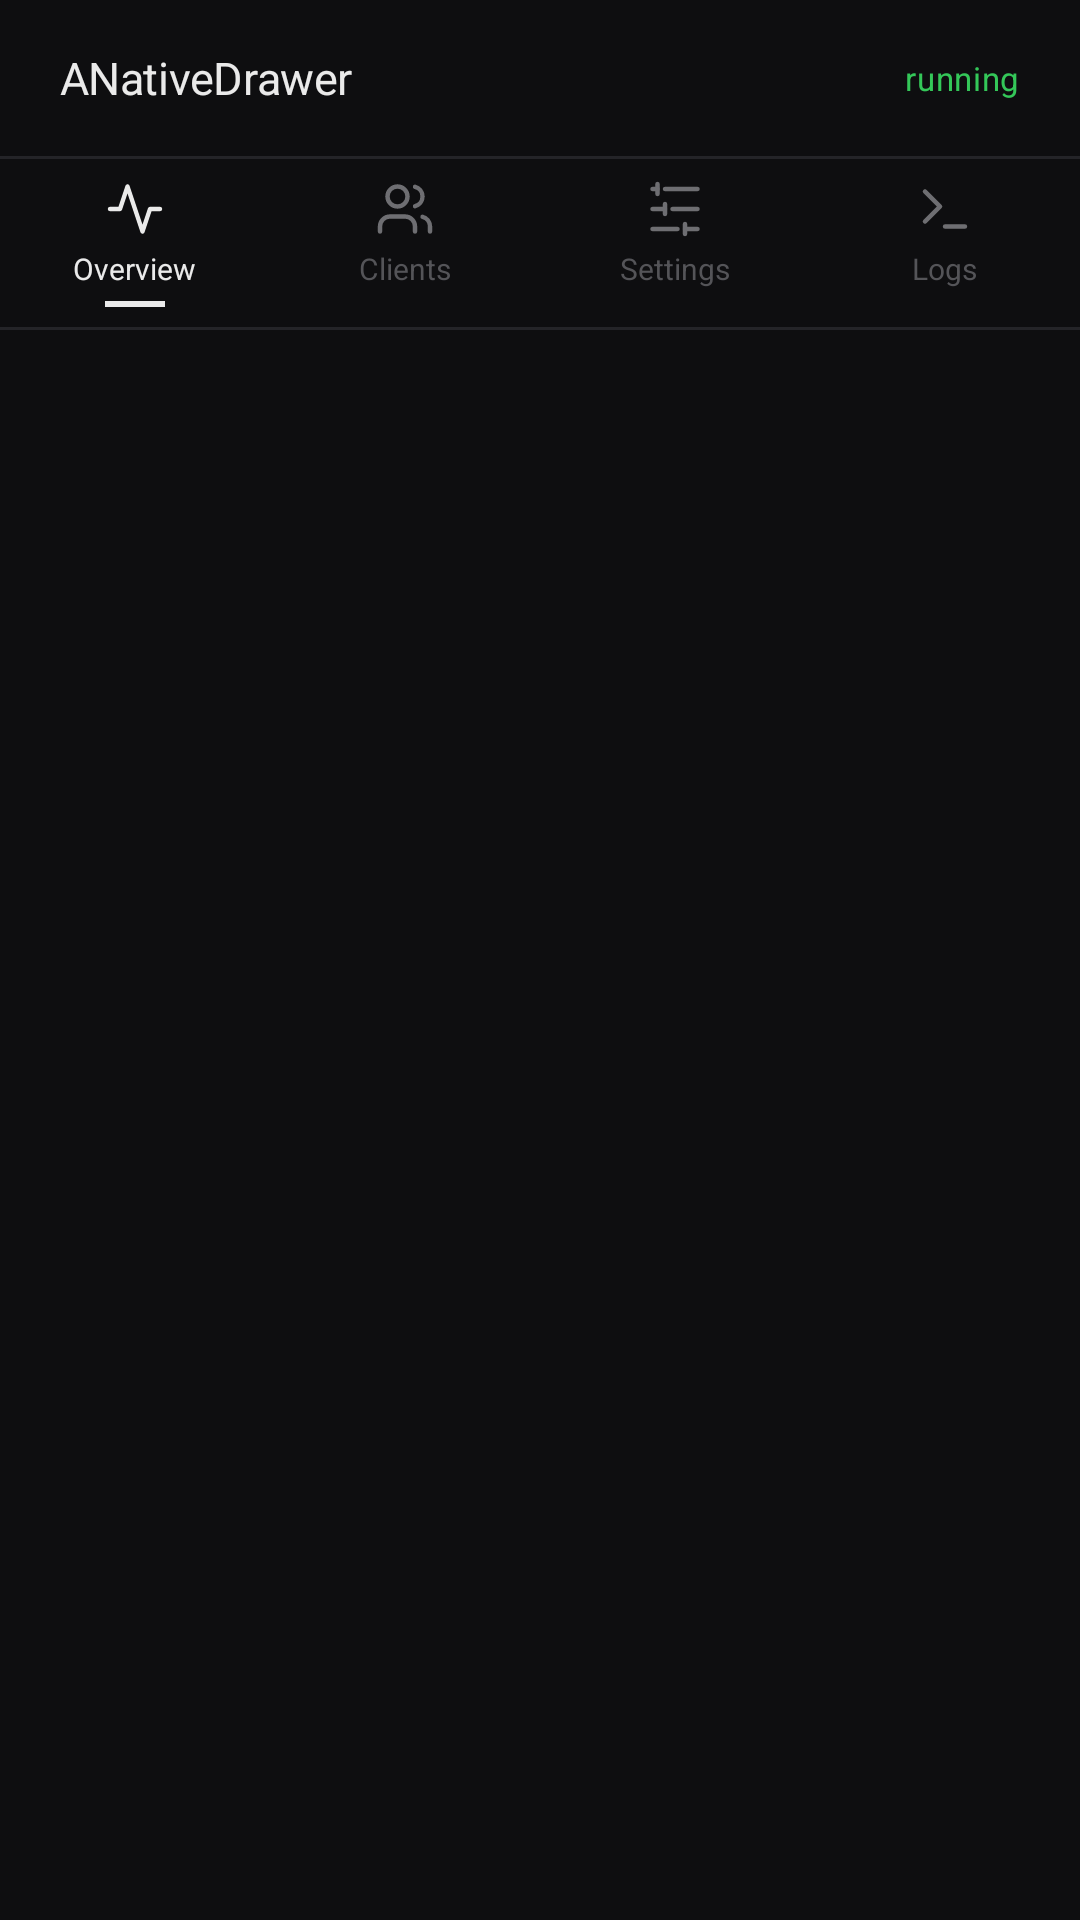

Icons on this 1080px×1920px Android screen, each with its box as (left=x1, top=y1, right=x2, bottom=y2):
activity: (left=108, top=184, right=162, bottom=234)
sliders: (left=650, top=182, right=700, bottom=236)
terminal: (left=922, top=189, right=967, bottom=229)
users: (left=377, top=184, right=433, bottom=234)
